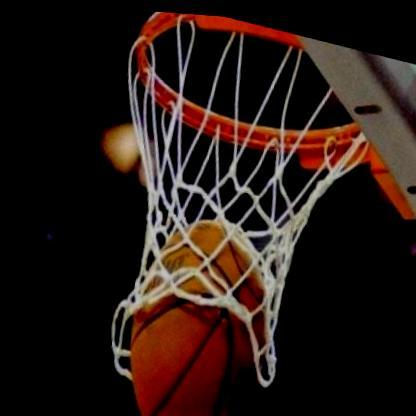basketball: (107, 188, 296, 416)
